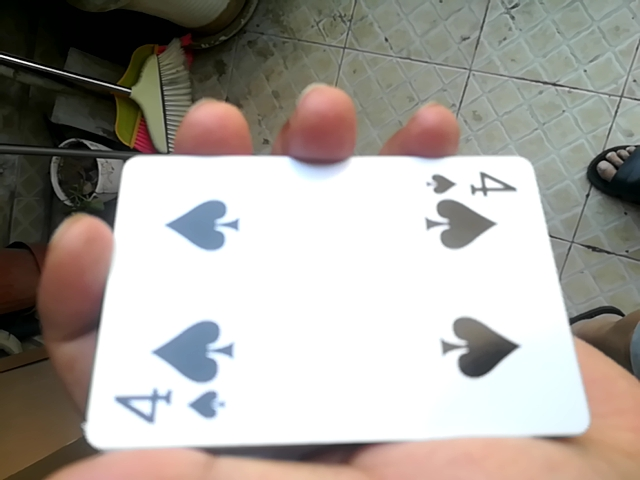ht 4: (82, 146, 593, 459)
